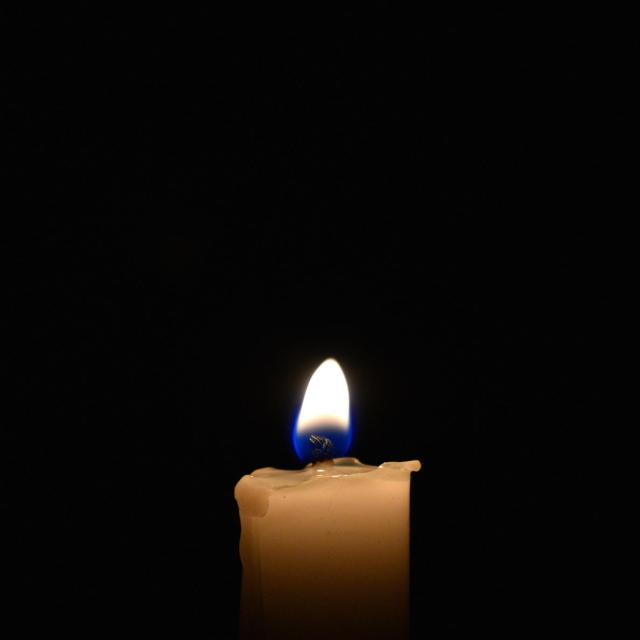Fire_Save: (232, 356, 422, 638), (291, 357, 353, 462)
